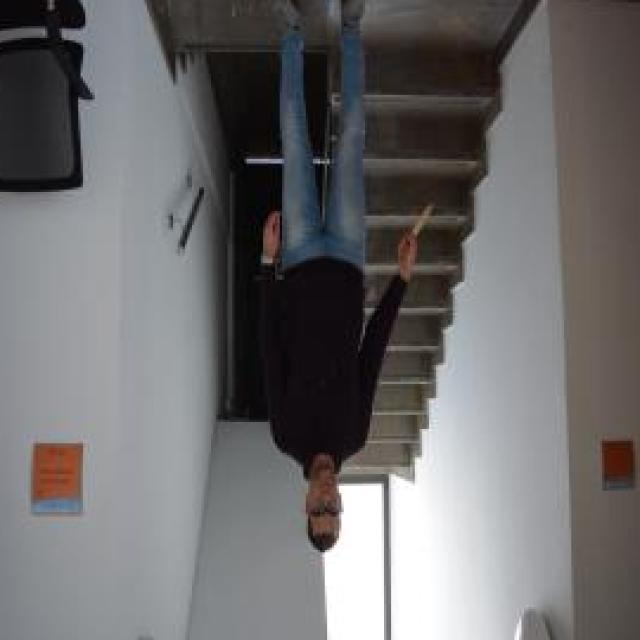knife: (404, 200, 436, 254)
